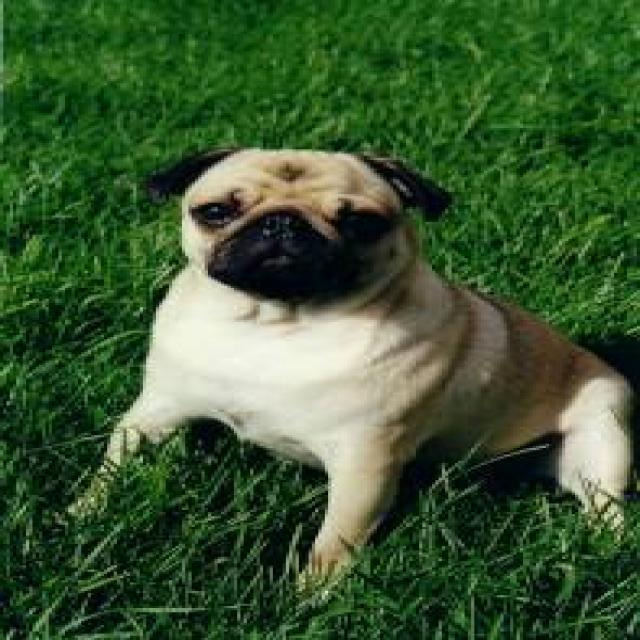dog-pug: (84, 141, 634, 589)
